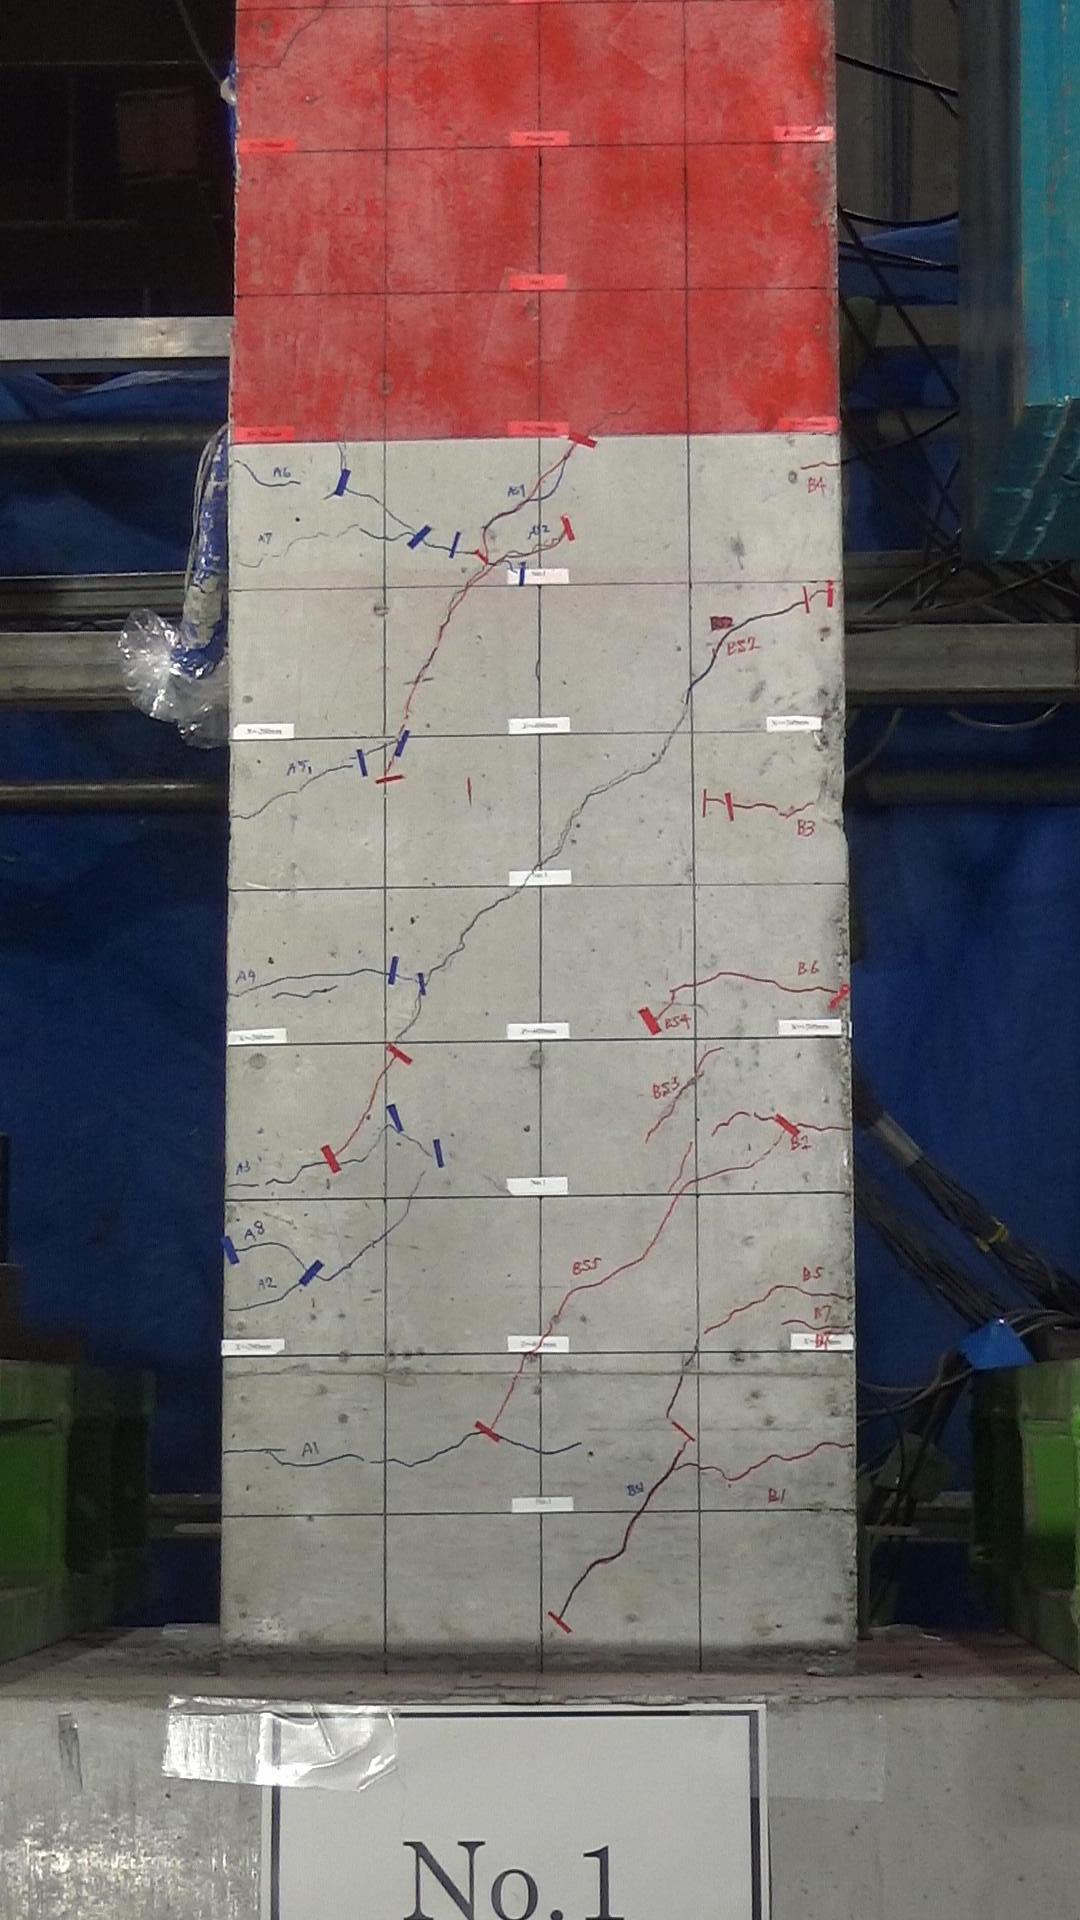Flexure Crack: (765, 978, 847, 1007), (495, 1433, 582, 1458), (770, 1280, 853, 1305), (781, 1436, 857, 1460), (237, 460, 295, 491), (707, 967, 767, 993), (359, 524, 415, 549), (750, 800, 816, 822), (433, 1431, 491, 1453), (691, 1464, 744, 1486), (229, 1178, 299, 1193), (266, 779, 315, 800), (781, 1317, 851, 1332), (795, 582, 833, 607), (274, 1453, 330, 1470), (295, 968, 375, 980), (705, 796, 752, 816), (309, 762, 361, 779), (324, 1453, 386, 1468), (268, 988, 343, 1000), (386, 1453, 434, 1472), (795, 1124, 851, 1139), (232, 1444, 295, 1457), (794, 455, 839, 473), (236, 555, 284, 572), (236, 1242, 295, 1255), (738, 1455, 782, 1472), (225, 981, 265, 1000), (289, 531, 343, 545), (233, 804, 268, 824), (360, 738, 398, 756), (675, 976, 709, 994), (389, 969, 425, 986), (229, 1302, 284, 1312), (753, 609, 799, 620)
Shear Crack: (409, 638, 446, 686), (662, 1360, 690, 1418), (386, 715, 410, 778), (704, 1305, 746, 1336), (717, 618, 752, 655), (596, 1261, 644, 1286), (473, 513, 501, 555), (579, 1551, 626, 1575), (332, 1121, 361, 1159), (647, 1102, 676, 1141), (510, 483, 543, 516), (320, 1255, 355, 1287), (433, 601, 456, 645), (506, 1350, 535, 1385), (712, 1110, 746, 1139), (344, 485, 384, 510), (642, 1473, 670, 1509), (556, 1580, 579, 1623), (450, 578, 475, 616), (402, 676, 423, 721), (560, 800, 582, 841), (469, 560, 500, 588), (440, 938, 467, 969), (621, 1513, 641, 1553), (534, 845, 566, 870), (688, 659, 716, 687), (673, 1145, 696, 1176), (738, 1292, 774, 1313), (684, 1335, 707, 1367), (392, 1021, 419, 1047), (559, 1284, 596, 1304), (676, 1072, 704, 1098), (493, 1390, 514, 1423), (488, 887, 521, 909), (665, 1441, 688, 1470), (683, 1172, 717, 1192), (661, 1197, 679, 1233), (727, 1158, 762, 1176), (407, 986, 425, 1025), (675, 688, 692, 727), (641, 1230, 662, 1261), (654, 992, 675, 1021), (657, 735, 675, 767), (401, 1182, 419, 1213), (698, 1047, 727, 1067), (363, 1232, 386, 1255), (465, 910, 487, 936), (624, 764, 655, 781), (539, 459, 560, 484), (364, 1085, 381, 1116), (582, 785, 618, 798), (378, 1059, 396, 1087), (425, 963, 444, 985), (546, 1309, 560, 1336), (545, 481, 560, 502), (393, 1213, 407, 1236), (559, 456, 568, 480)
